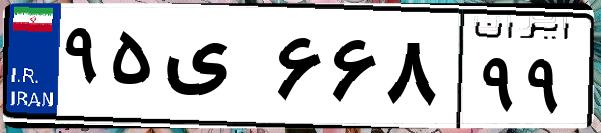5: (110, 28, 158, 98)
6: (270, 28, 330, 110), (330, 28, 385, 110)
8: (385, 28, 445, 110)
9: (57, 26, 110, 100), (475, 38, 525, 113), (525, 38, 570, 115)
ی: (158, 20, 270, 120)
